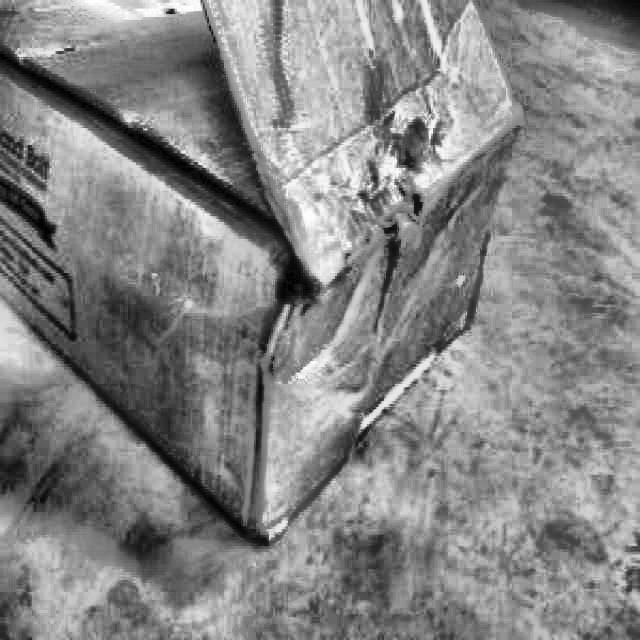box: (0, 0, 535, 578)
hole: (257, 233, 321, 317)
